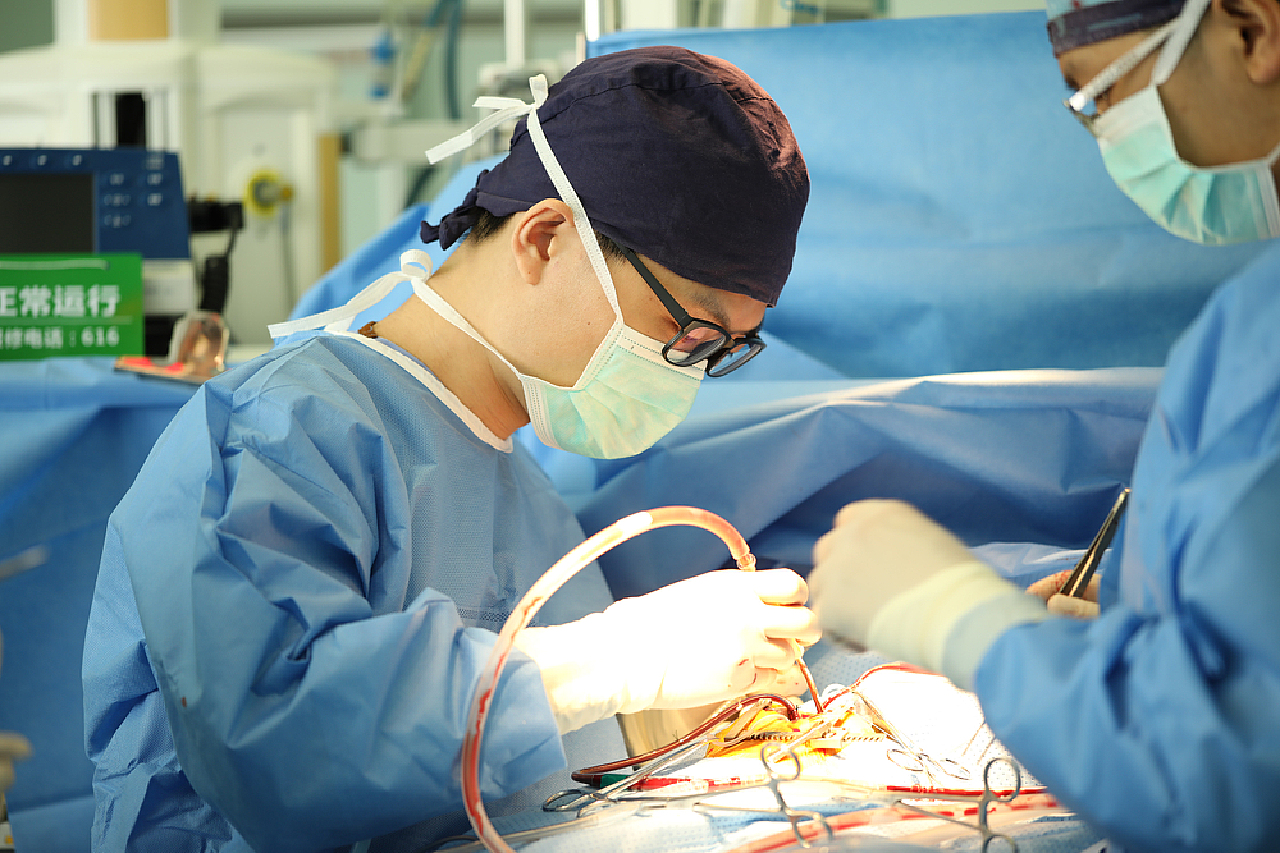with_mask: (497, 45, 815, 463), (1037, 2, 1280, 251)
